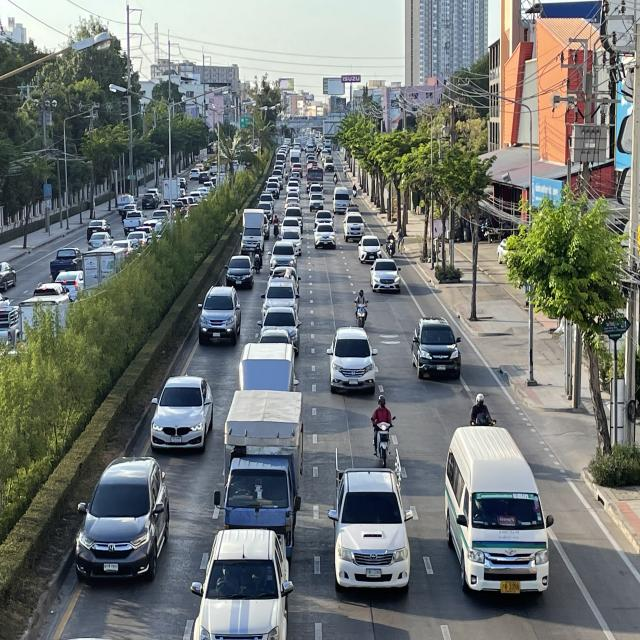bike: (368, 393, 396, 468), (468, 389, 496, 428), (351, 286, 370, 331), (252, 242, 264, 276), (385, 229, 396, 259)
car: (443, 423, 554, 604), (72, 457, 171, 584), (191, 526, 293, 640), (328, 326, 379, 393), (196, 284, 242, 344), (258, 307, 301, 354), (260, 276, 300, 322), (369, 256, 402, 291), (224, 255, 255, 290), (268, 241, 298, 273), (357, 234, 383, 262), (312, 224, 338, 251)
truck: (215, 389, 304, 551), (328, 446, 414, 600), (238, 341, 297, 397), (241, 209, 264, 253)
